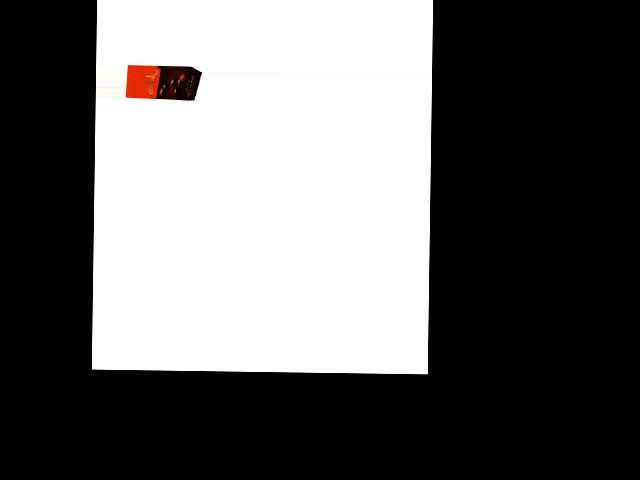chocolate: (126, 63, 201, 104)
